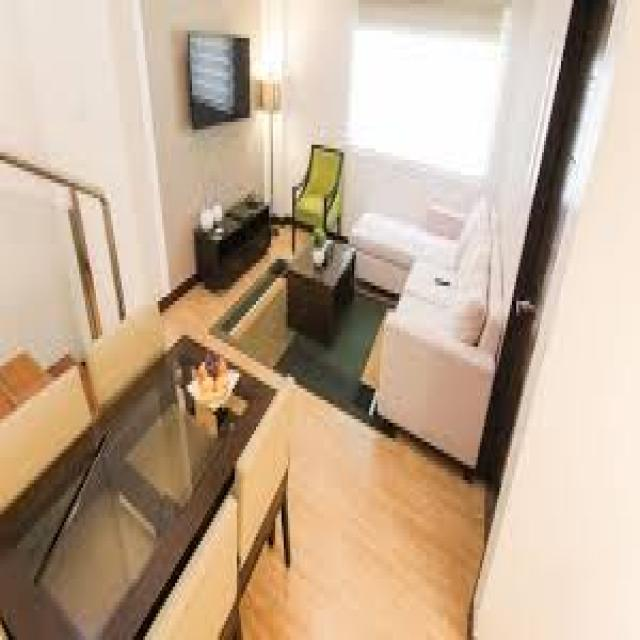Chair: (292, 140, 341, 246)
Sofa: (359, 202, 498, 468)
Table: (9, 332, 272, 635), (288, 232, 356, 346)
tv: (189, 29, 251, 132)
window: (350, 28, 495, 172)
